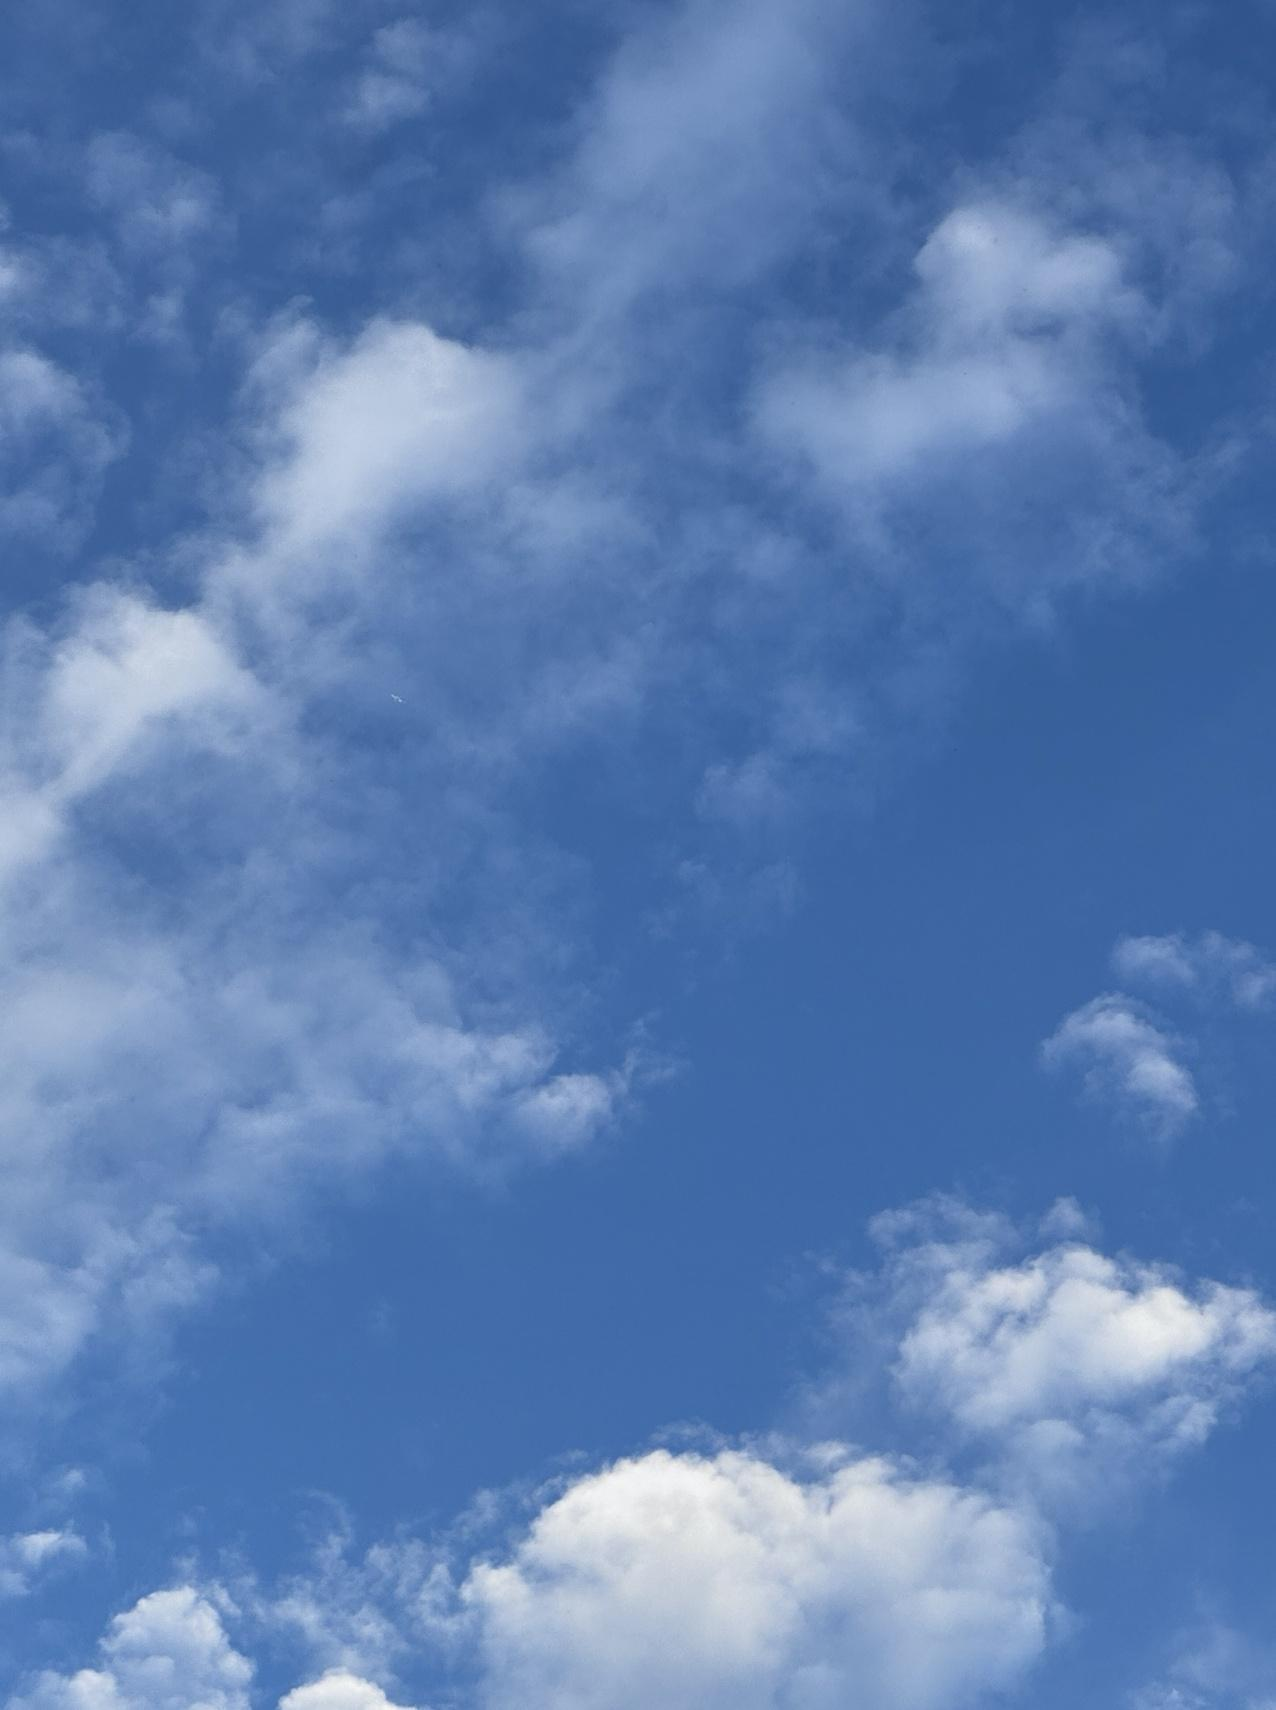Plane: (375, 677, 420, 709)
